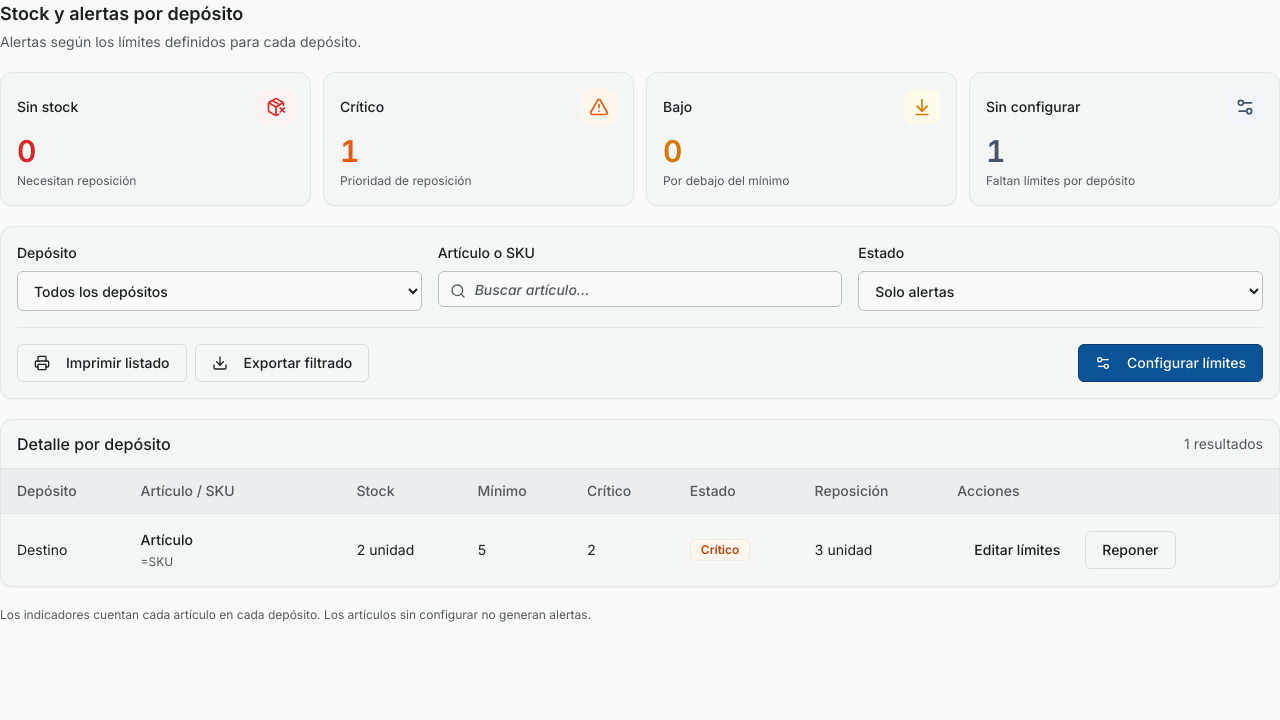
precarga destino, artículo y faltante sin ejecutar transferencia
Click the button "Reponer" at x=1130, y=550, box [1085, 531, 1176, 569]
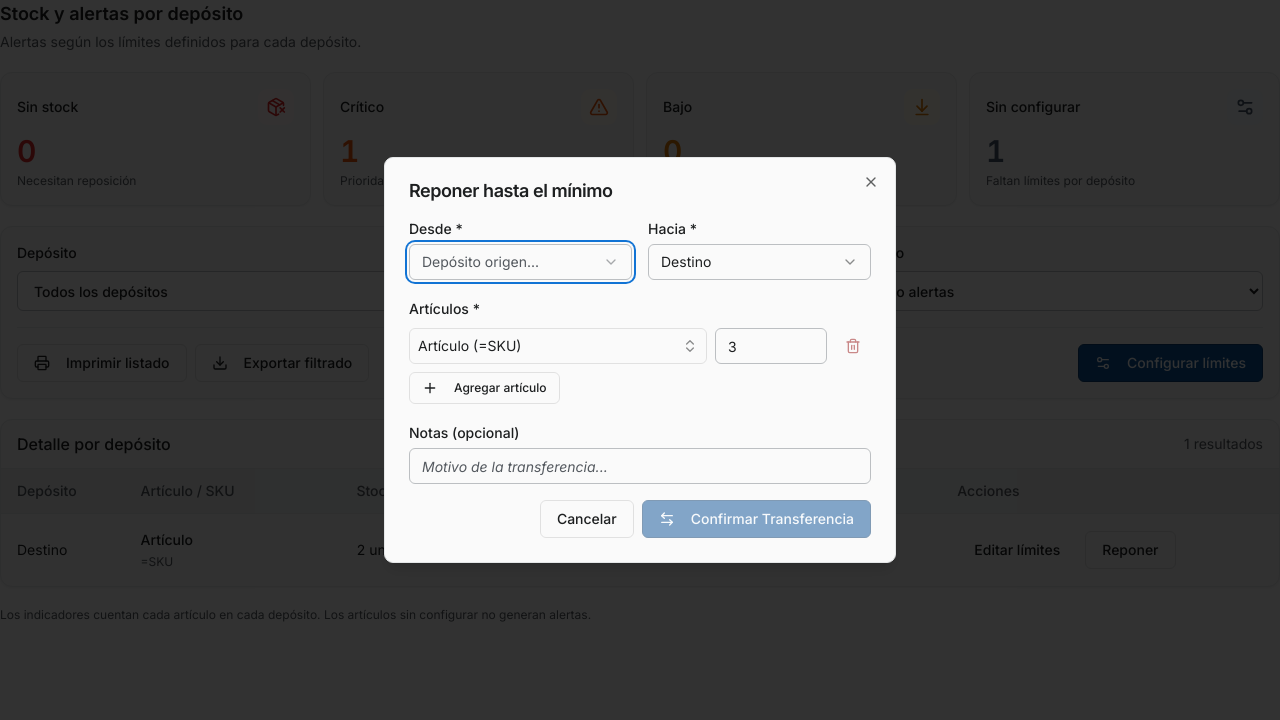
Result: the dropdown with test id "select-to-warehouse" reads "Destino" at [648, 244, 871, 280]
Result: the dropdown with test id "select-from-warehouse" shows "Depósito origen" at [409, 244, 632, 280]
Result: the number field with test id "input-transfer-qty-0" holds "3" at [715, 328, 827, 364]
